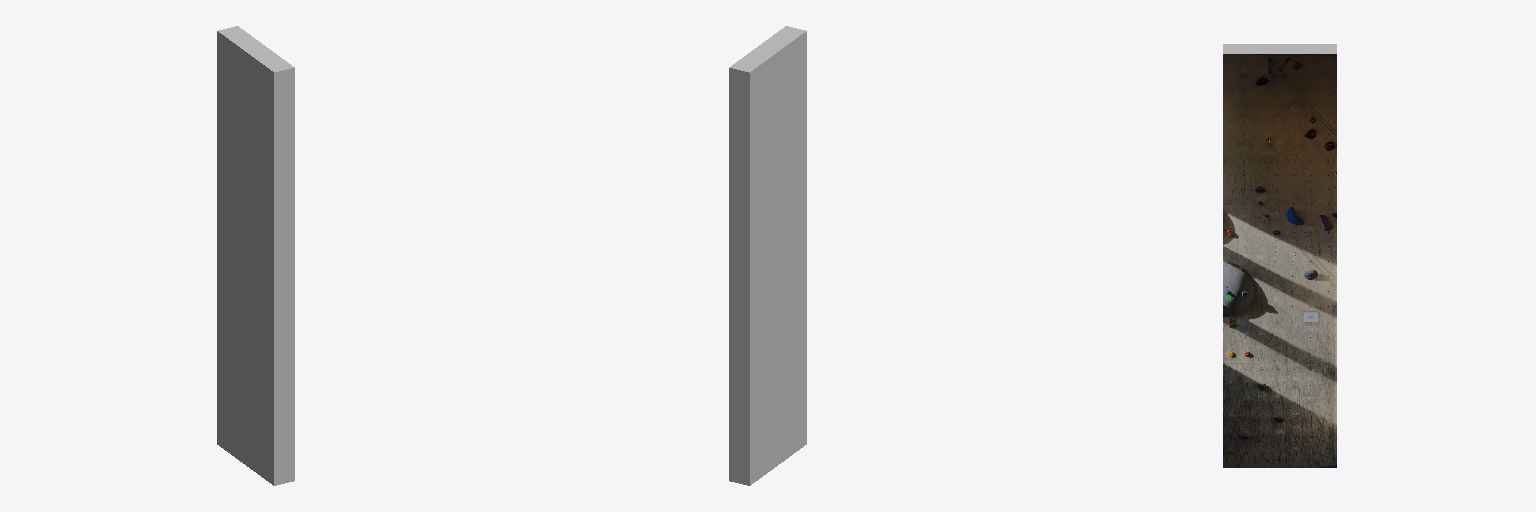
3 views of the same model, side by side, from view 1: azimuth 30°, elevation 25°; view 2: azimuth 150°, elevation 25°; view 3: azimuth 270°, elevation 25° (orthographic).
Visible parts, largest first — view 1: Cube; view 2: Cube; view 3: Cube.
Boxes of the visible parts, x1,y1,x2,y2 form: Cube: [217, 26, 294, 485]; Cube: [729, 26, 806, 485]; Cube: [1223, 44, 1336, 467].
Bounding box in the file's own units: 0.25 × 4.8 × 1.2.
Materials: 2 (1 with a texture image).